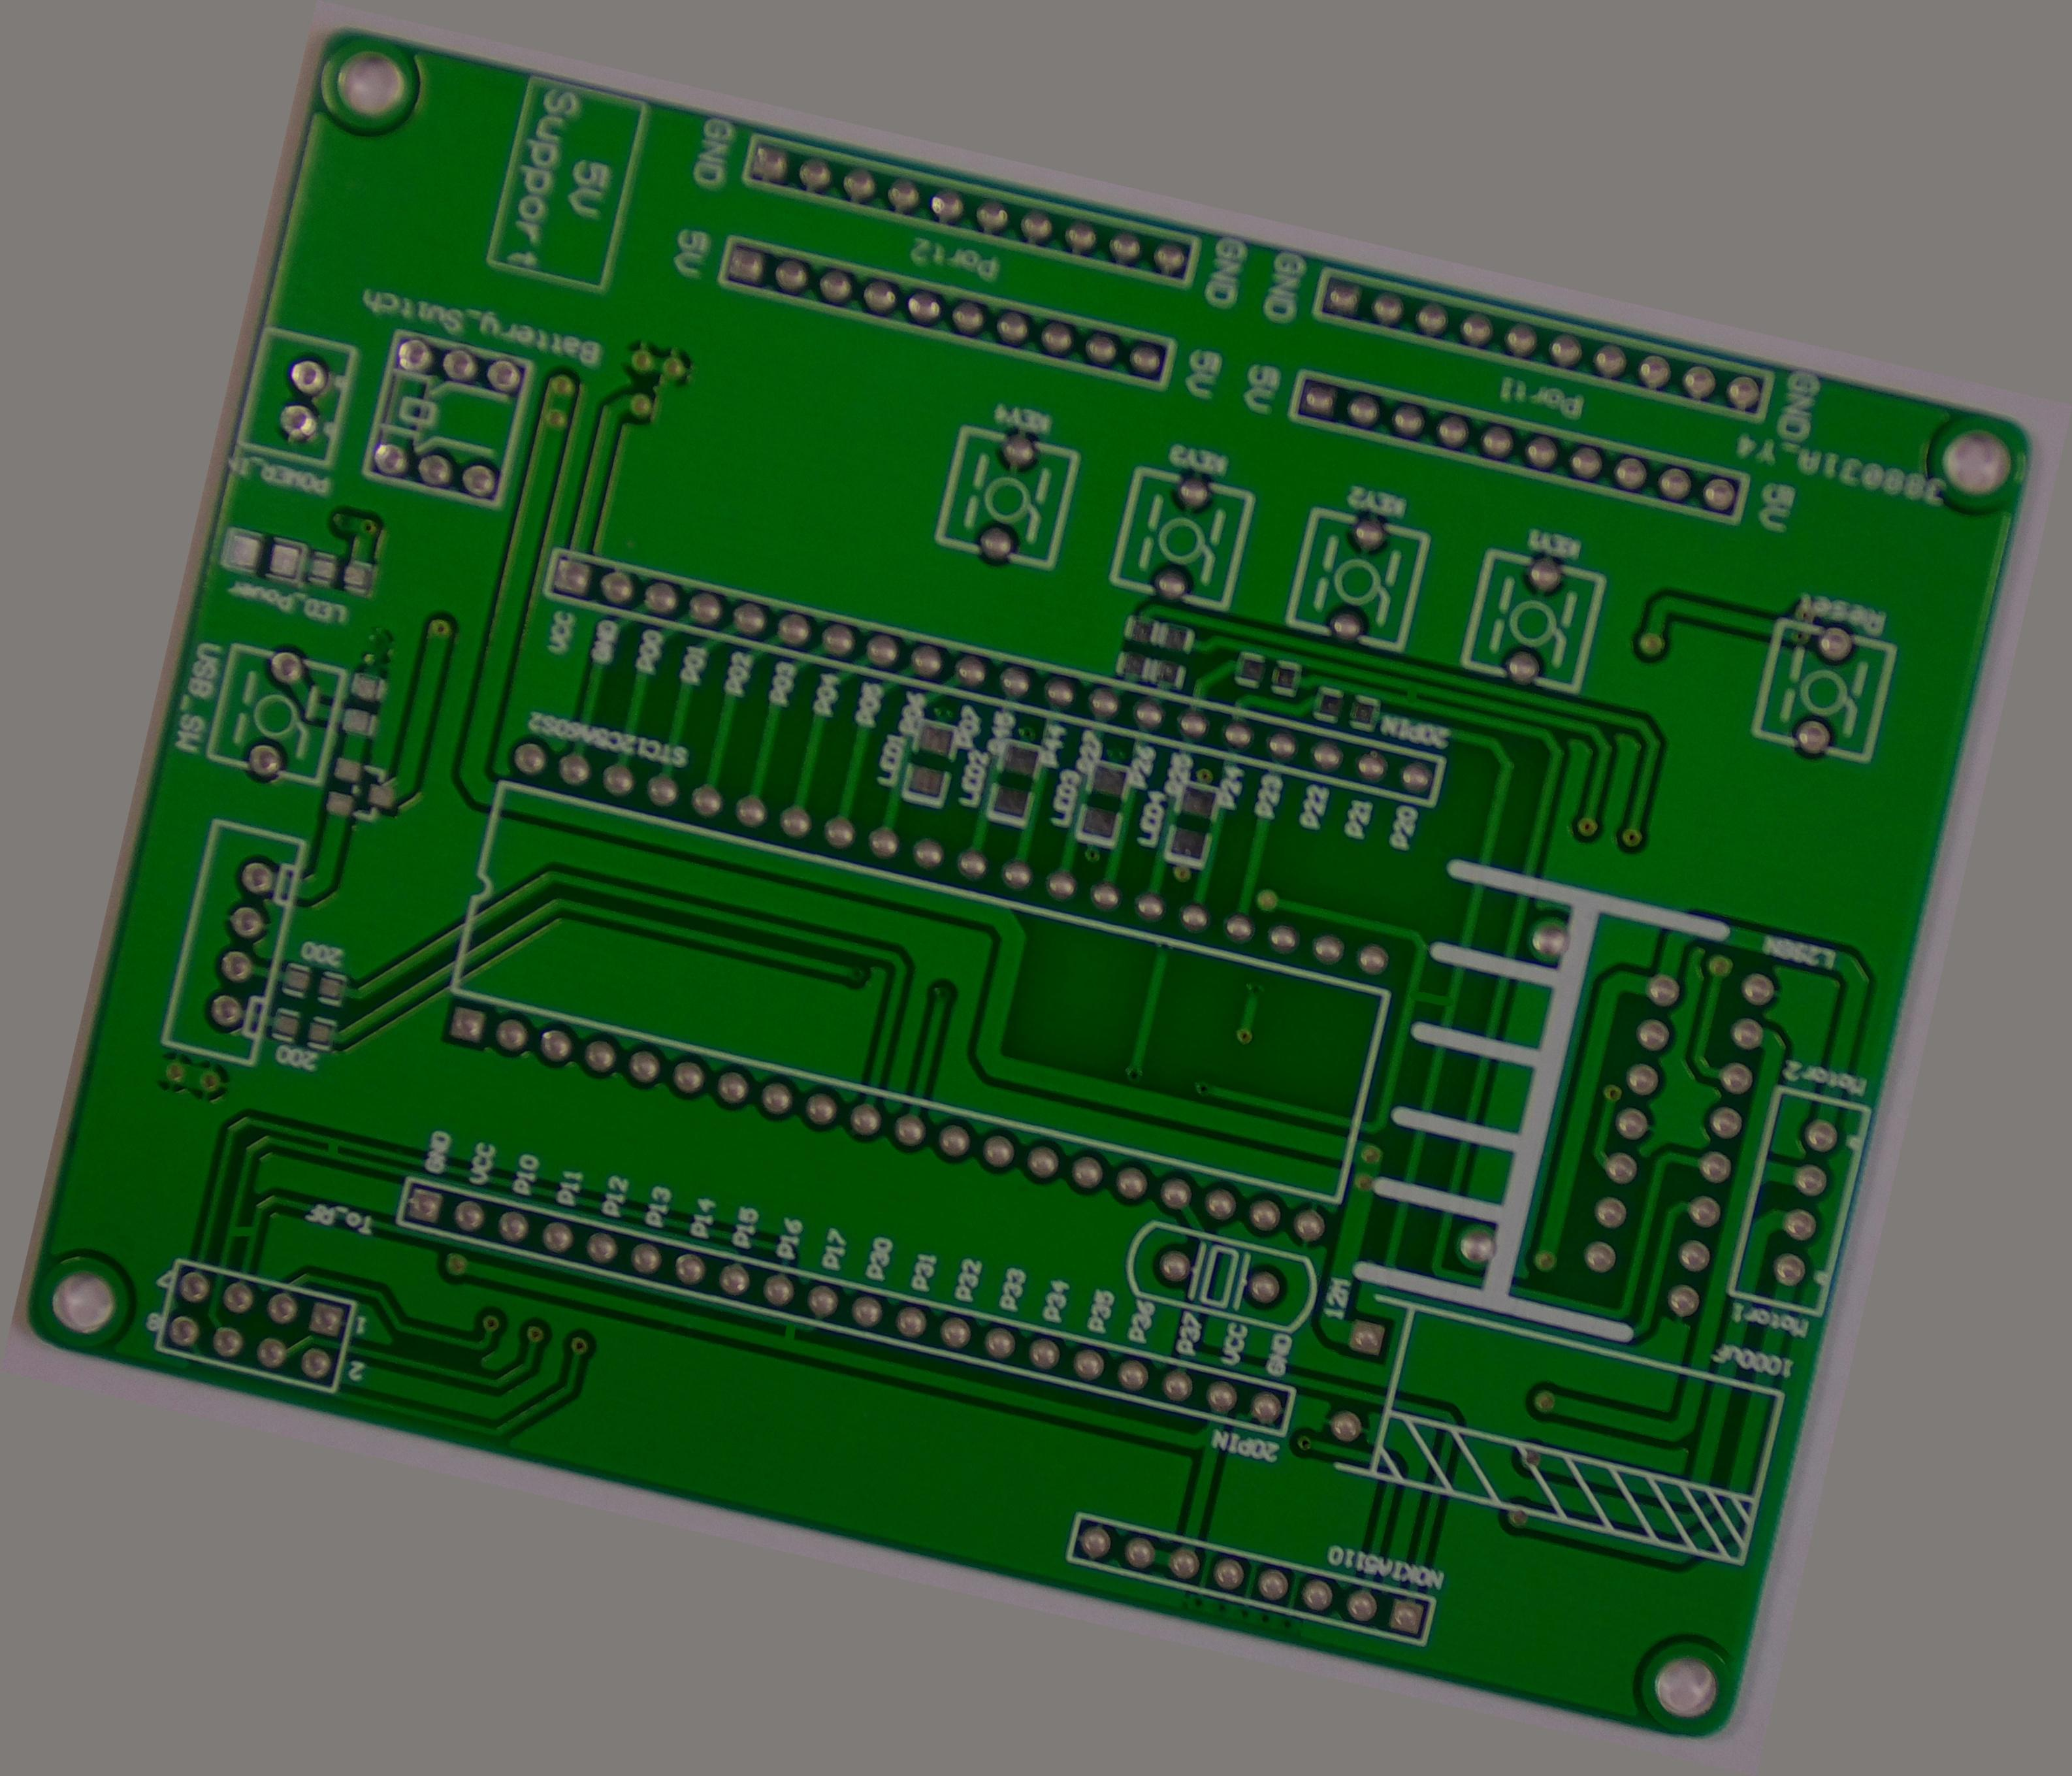short: (1395, 967, 1466, 1036), (211, 1205, 268, 1256), (1387, 673, 1436, 719), (310, 1126, 356, 1170)
